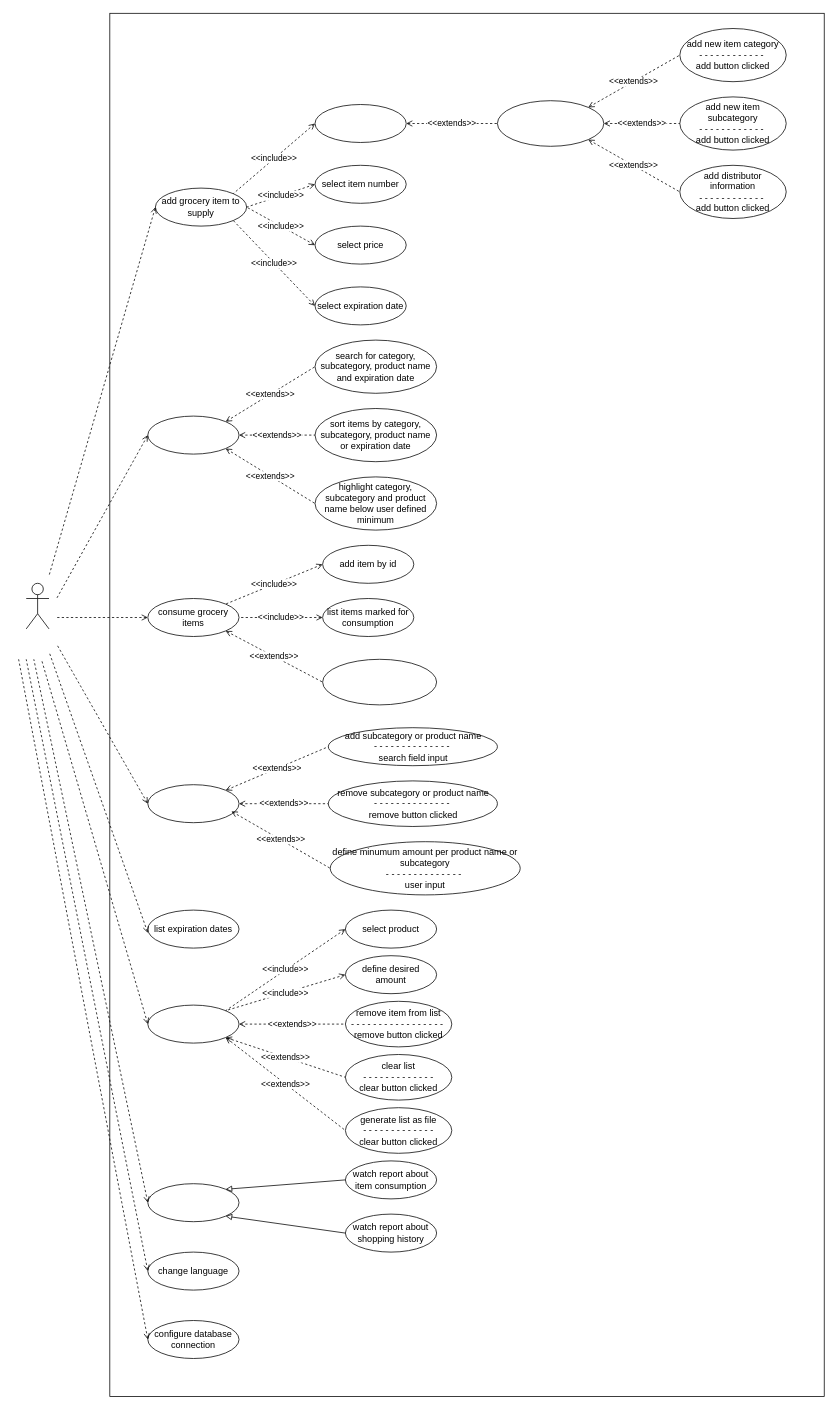
This 838x1410 diagram has some shape labels left out. Each missing label, with the centre of its shape:
"add new product - - - - - - - - - - - - - - - - - - add button clicked" goes at pixel 550 123.
"generate shopping list" goes at pixel 193 1023.
"list current grocery item supply" goes at pixel 193 434.
"list minimum grocery item supply" goes at pixel 193 803.
"remove marked item - - - - - - - - - - - - - remove button clicked" goes at pixel 379 682.
"select product name" goes at pixel 360 123.
"User" goes at pixel 37 606.
"watch report" goes at pixel 193 1202.
